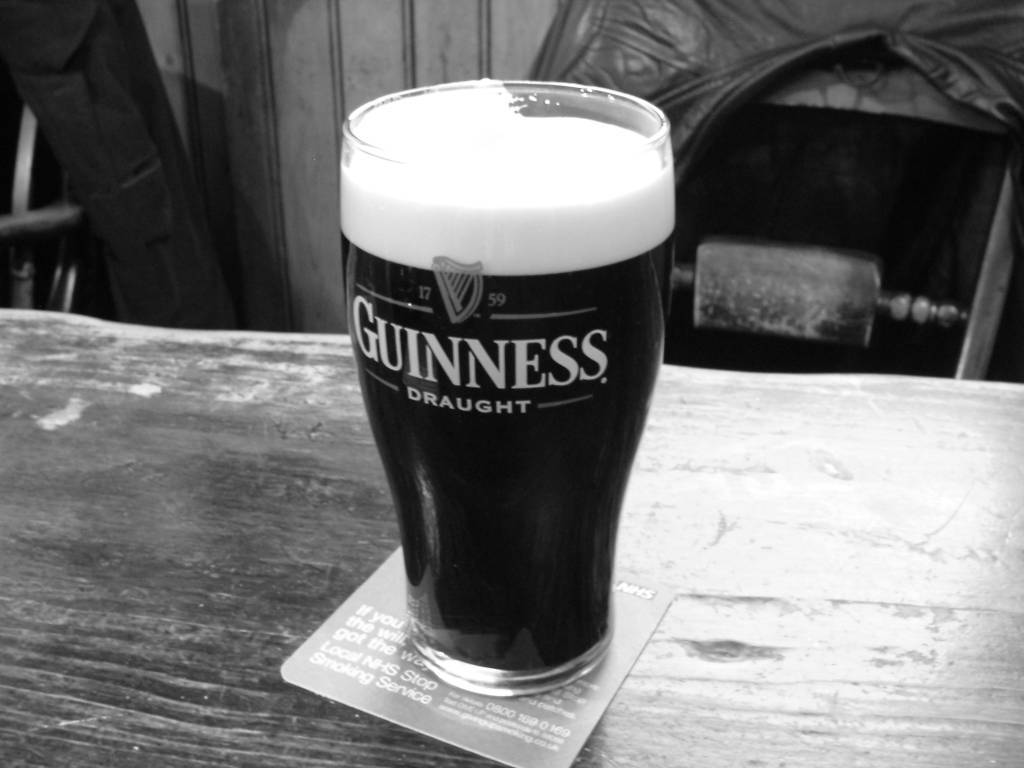Beer: (343, 80, 668, 669)
